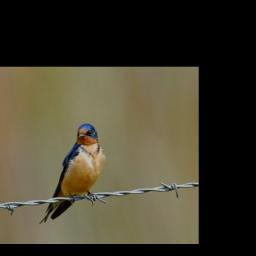Swallow: (38, 122, 107, 224)
